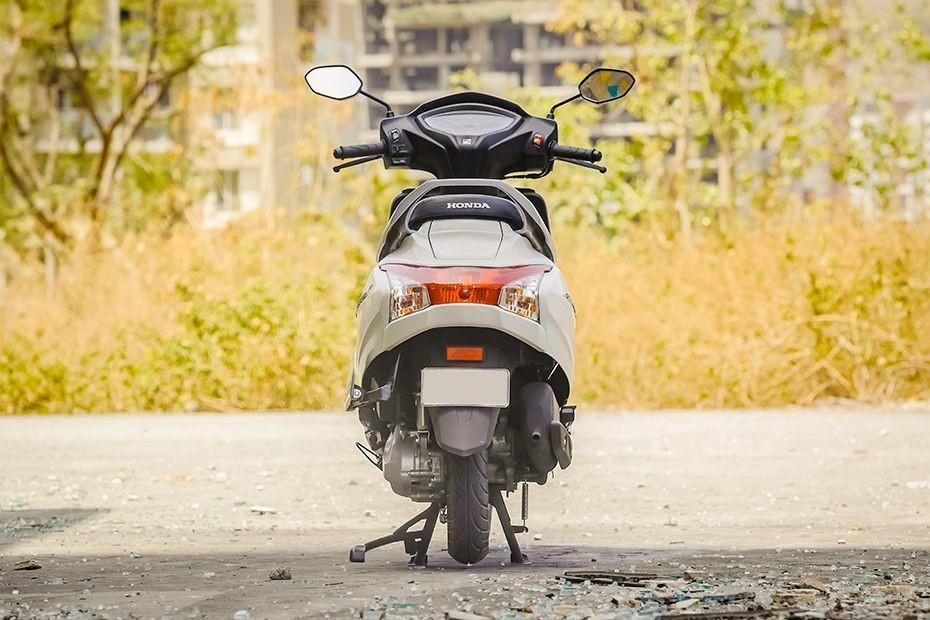MotorCycle: (302, 60, 637, 576)
